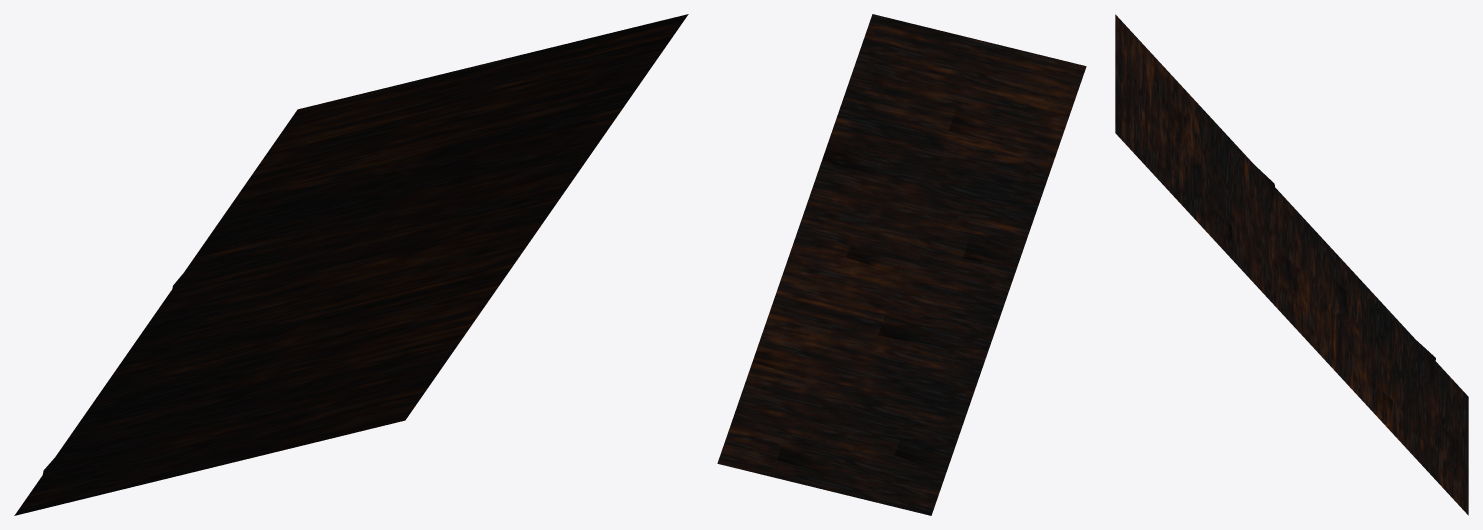
File: Timberframing_Roof_5x3_City_Environment.FBX
3 renders of one model, left to right at view 1: azimuth 30°, elevation 25°; view 2: azimuth 150°, elevation 25°; view 3: azimuth 270°, elevation 25°, orthographic. The views are drawn at different scales.
Visible parts, largest first — view 1: Roof_5x3_City_Environment; view 2: Roof_5x3_City_Environment; view 3: Roof_5x3_City_Environment.
Boxes of the visible parts, <box> form: Roof_5x3_City_Environment: <box>14,14,688,515</box>; Roof_5x3_City_Environment: <box>717,14,1086,515</box>; Roof_5x3_City_Environment: <box>1115,14,1468,515</box>.
Size of the model in its own units: 200 by 300 by 251.
